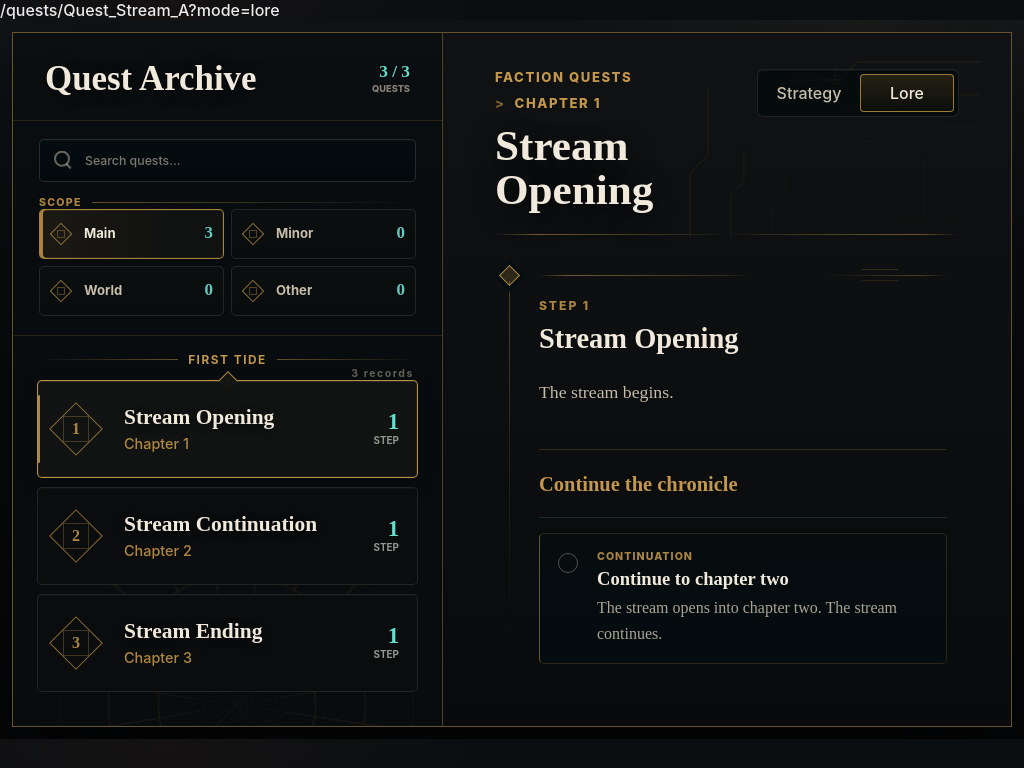
it: QuestExplorerPage Lore chronicle behavior › promotes a passively highlighted rail item to canonical navigation when clicked
The image size is (1024, 768).
Expected: the heading "Stream Opening" is shown, [495,122,653,214]
What coordinates should you click on to do the following:
click the button "Continue to chapter two"
I would click on:
 (743, 598)
Its box is [539,533,947,664].
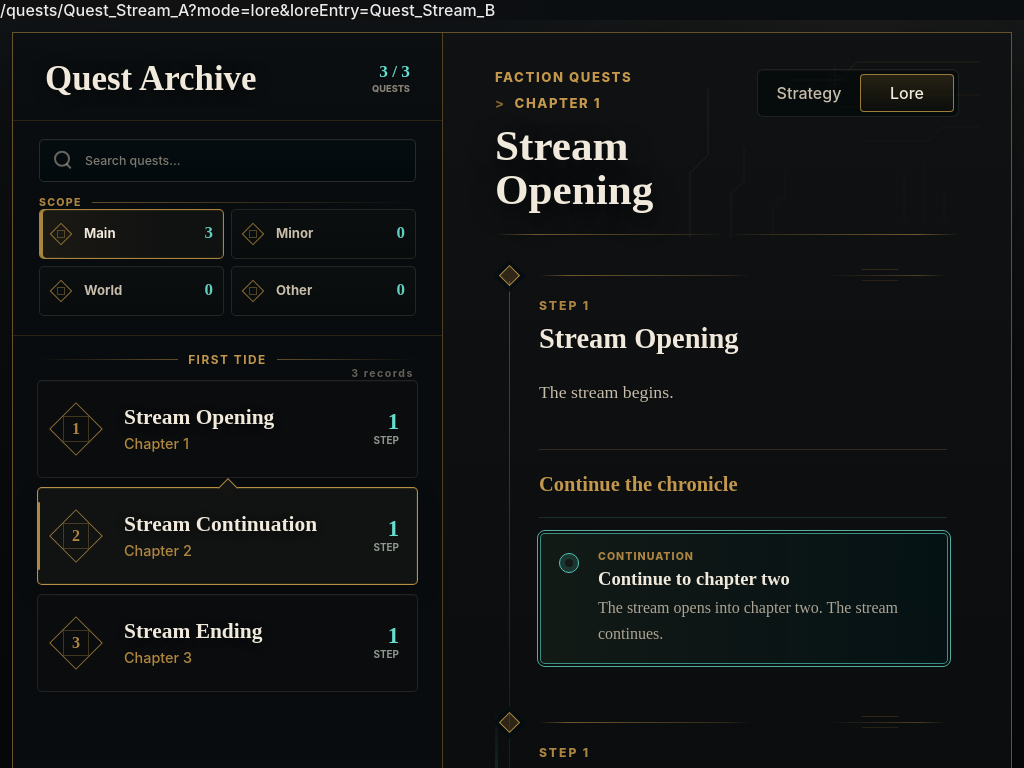
Expected: the text with test id "route-location" shows "loreEntry=Quest_Stream_B", [0,0,495,20]
What coordinates should you click on to do the following:
click the button "2 Stream Continuation Chapter 2 1 step"
I would click on:
 (228, 536)
Its box is [37,487,418,585].
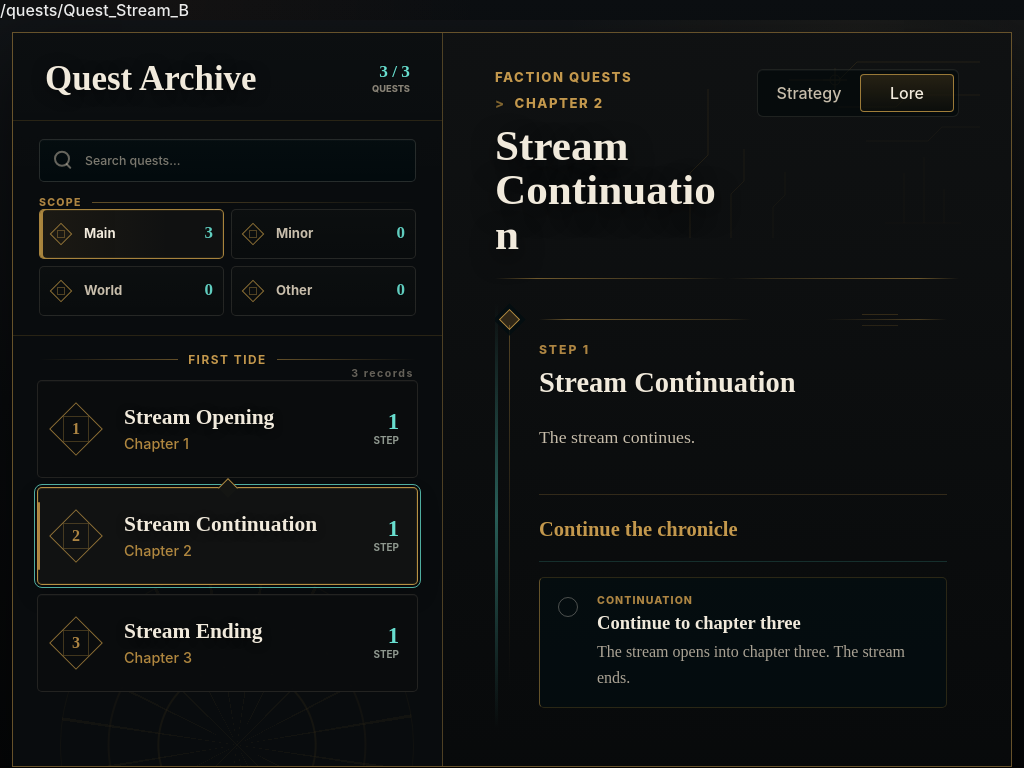
Expected: the text with test id "route-location" reads "/quests/Quest_Stream_B", [0,0,189,20]
Expected: the text with test id "route-location" no longer shows "loreEntry="
